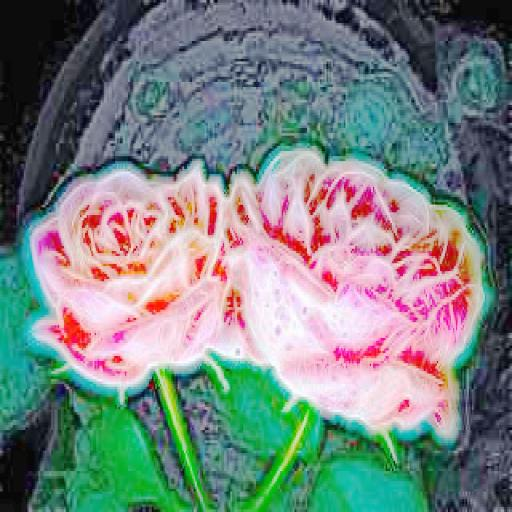rose: (238, 148, 488, 440), (32, 164, 238, 394)
